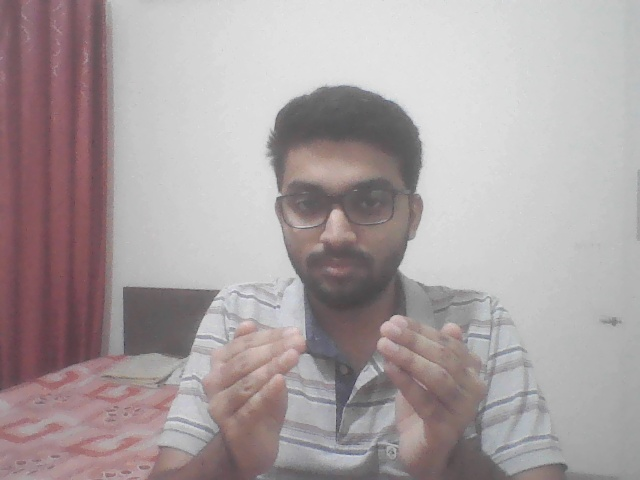small: (198, 291, 503, 474)
